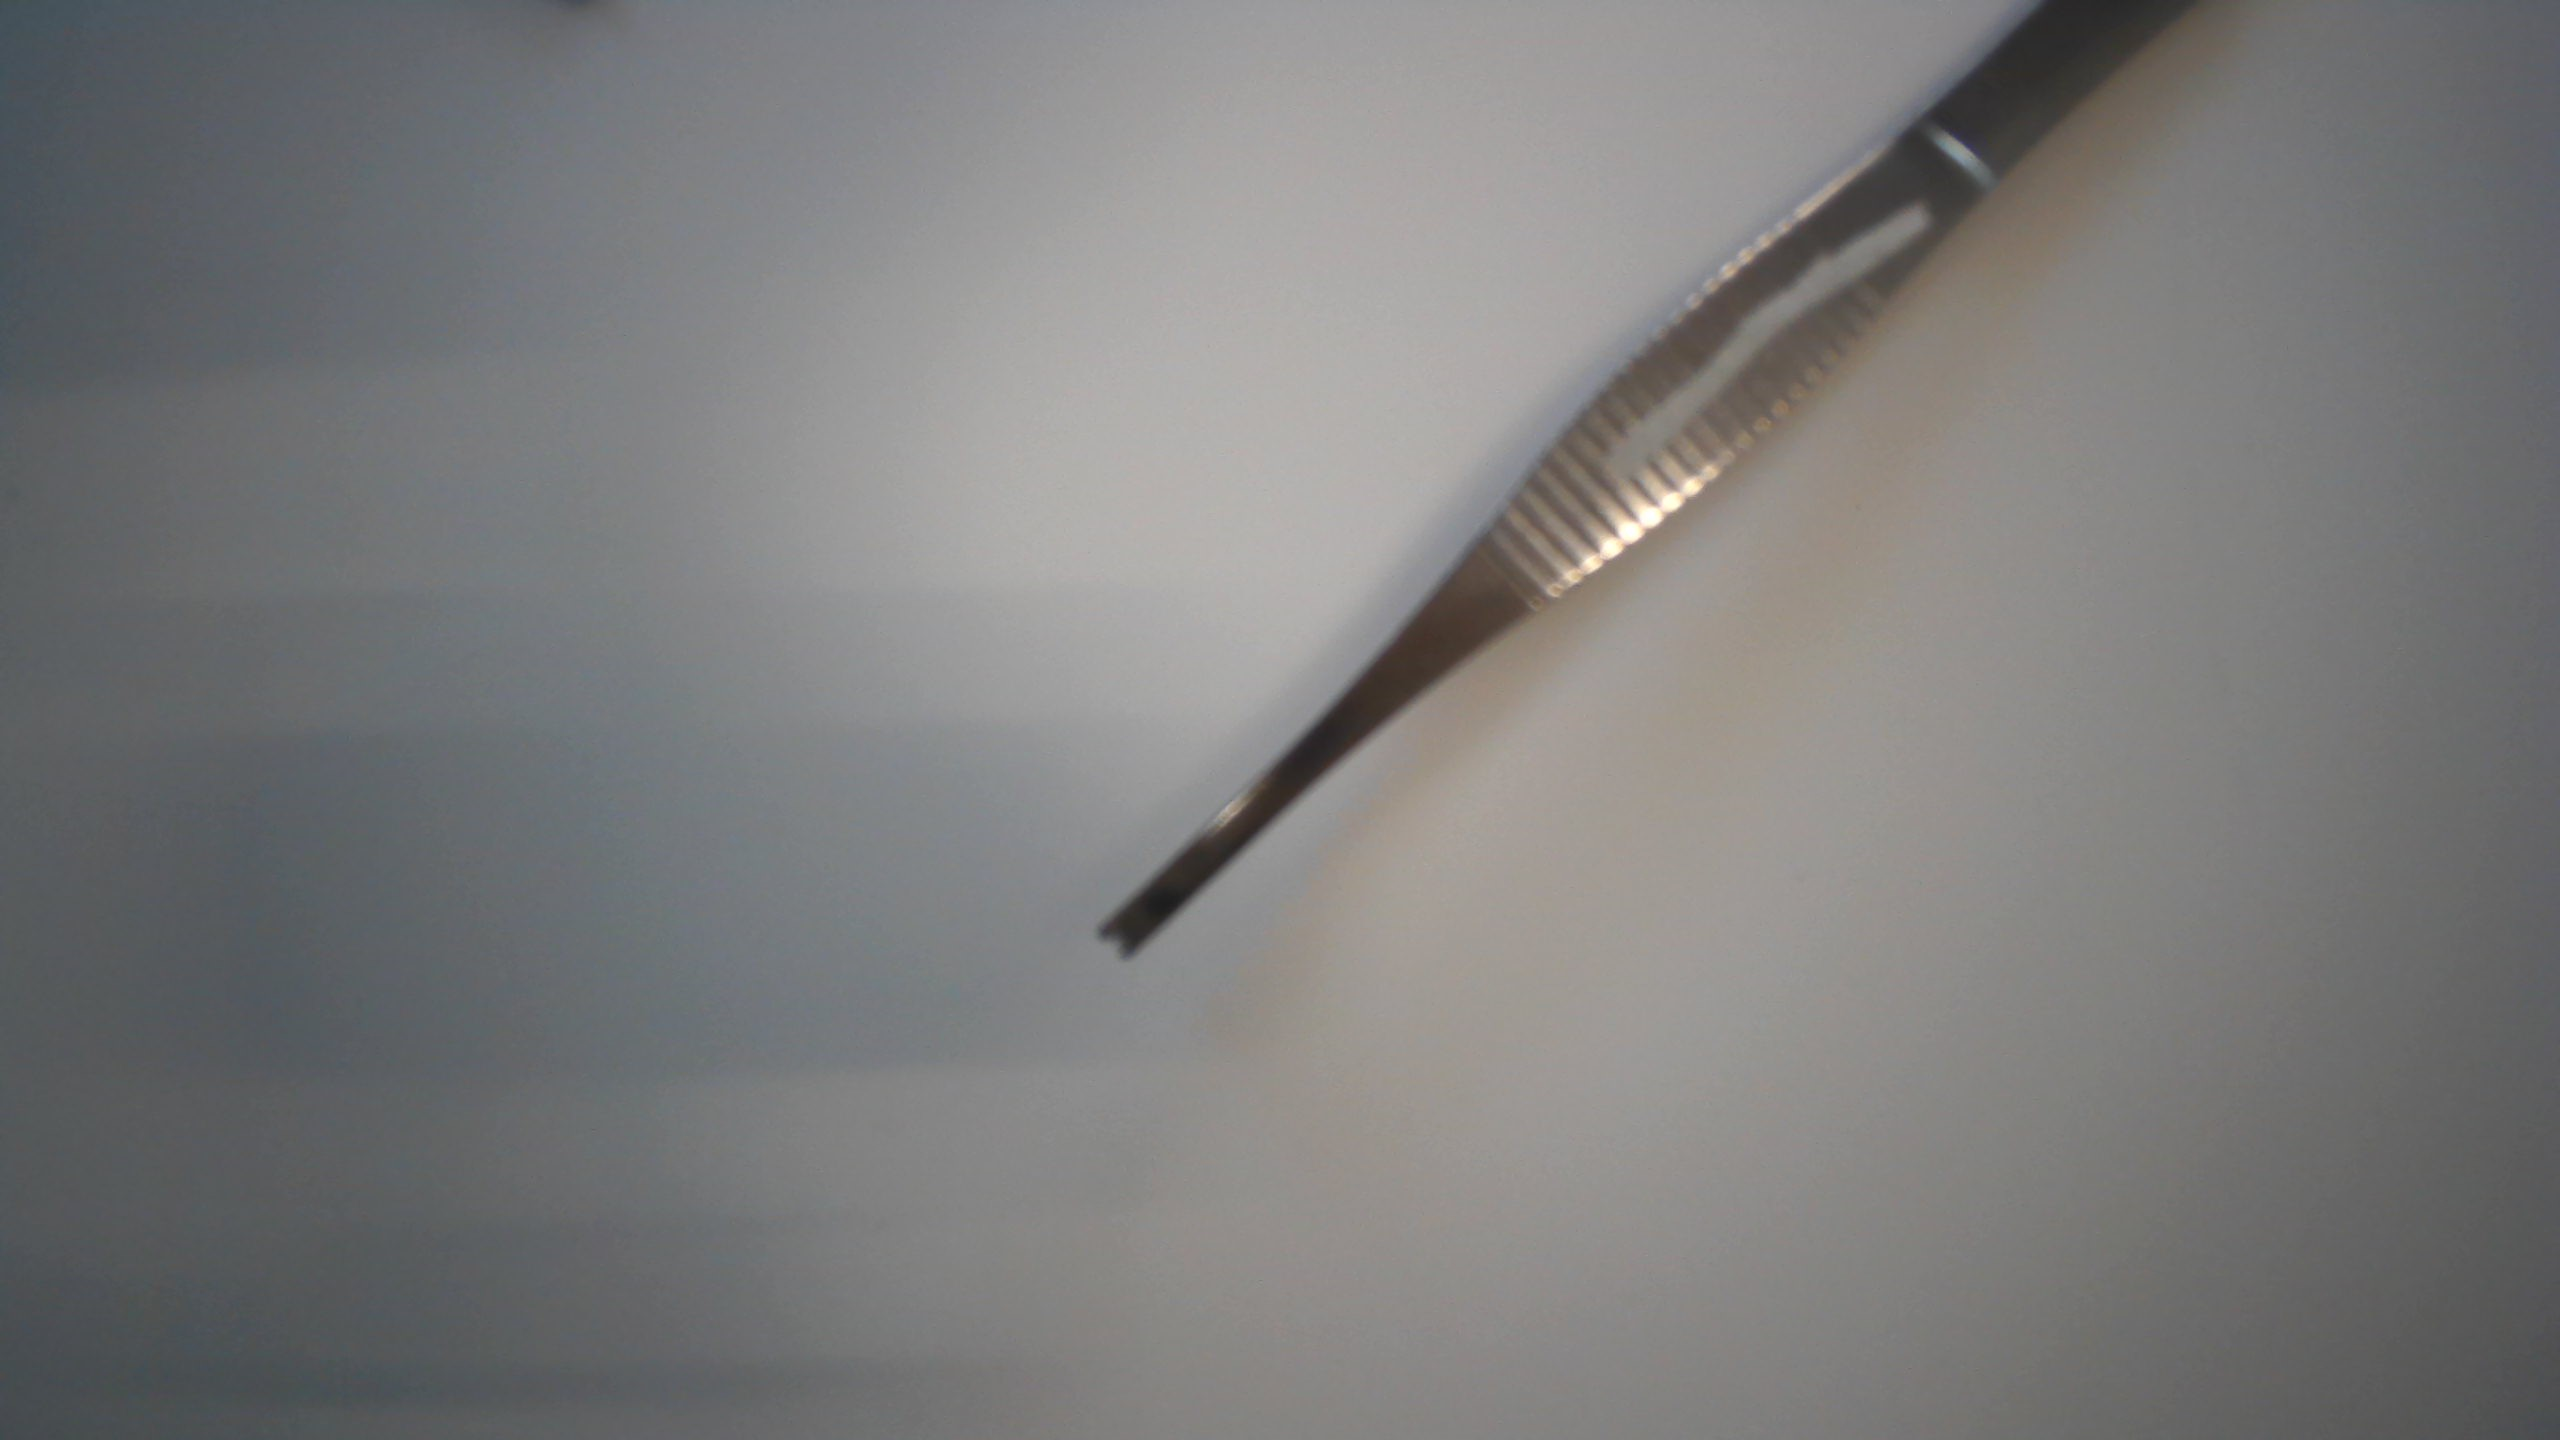Scratches: (1574, 190, 1941, 505)
